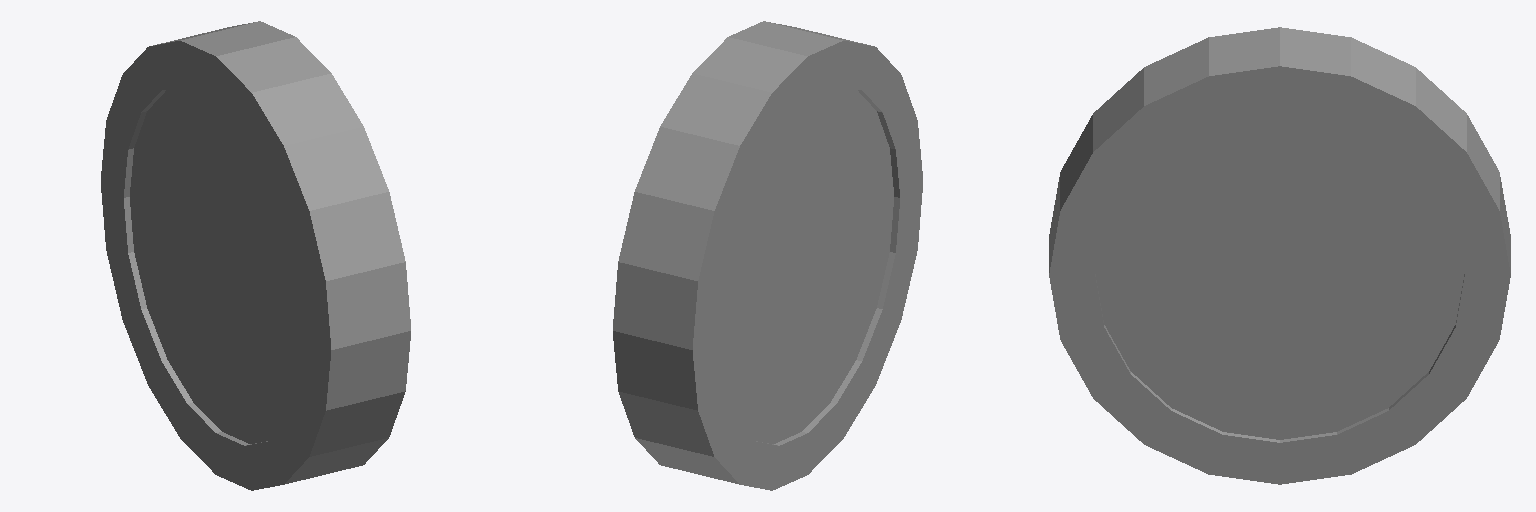
The model's file is coin.obj.
3 renders of one model, left to right at view 1: azimuth 30°, elevation 25°; view 2: azimuth 150°, elevation 25°; view 3: azimuth 270°, elevation 25°, orthographic.
Parts seen in each view (by area): view 1: Cylinder; view 2: Cylinder; view 3: Cylinder.
Part boxes in pixels (x1,y1,x2,y2): Cylinder: (101,21,410,490); Cylinder: (613,21,922,490); Cylinder: (1049,27,1510,484).
Bounding box in the file's own units: 0.2 × 1 × 1.